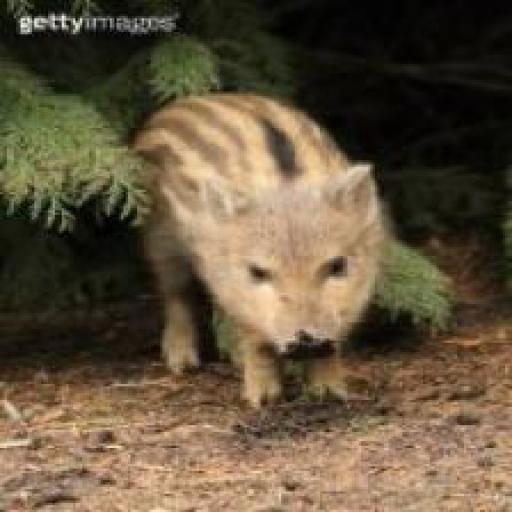Pig: (110, 80, 388, 422)
